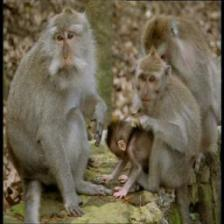monkey: (44, 13, 88, 94), (130, 64, 166, 114), (158, 38, 167, 58)
